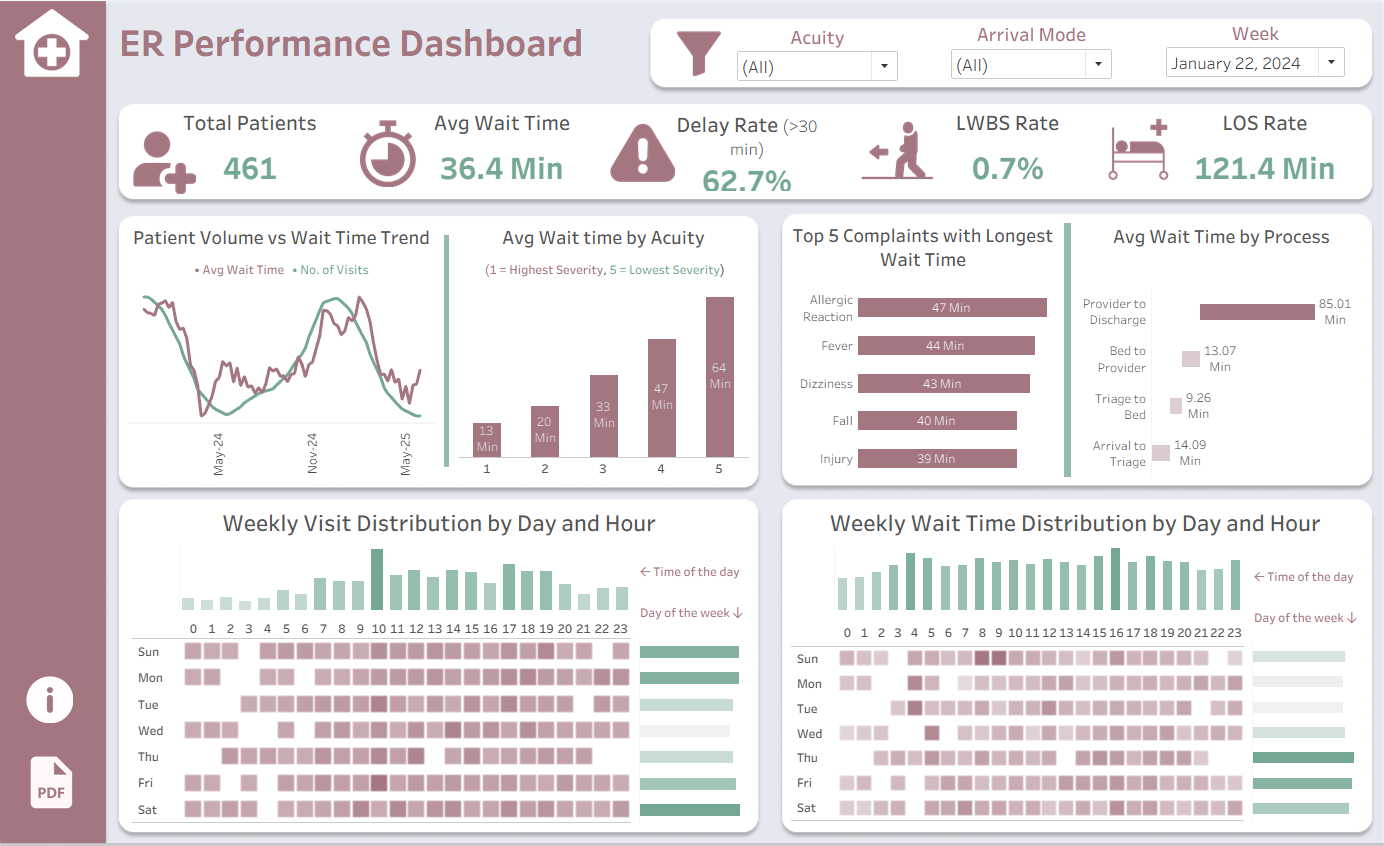

The dashboard page shown, as its layout file describes it:
{"tool":"tableau","page":{"name":"Dashboard 1","canvas":[1400,850],"ordinal":0},"visuals":[{"type":"image","param":"Image/Frame 2.png","box":[0,0,1400,850]},{"type":"image","param":"Image/Masked_pharmacy.png","box":[18,6,84,71]},{"type":"text","box":[122,10,1259,819]},{"type":"text","box":[123,13,516,54]},{"type":"filter","title":"Avg Wait Time","param":"[federated.0mgkxdm0bvt3421c7dn7l00vbysw].[md:week_start:ok]","box":[1171,19,185,59]},{"type":"filter","title":"Avg Wait Time","param":"[federated.0mgkxdm0bvt3421c7dn7l00vbysw].[none:arrival_mode:nk]","box":[956,20,167,61]},{"type":"filter","title":"Avg Wait Time","param":"[federated.0mgkxdm0bvt3421c7dn7l00vbysw].[none:acuity_cd:ok]","box":[742,23,167,58]},{"type":"image","param":"Image/Masked_filter.png","box":[684,29,45,47]},{"type":"blank","box":[134,105,32,89]},{"type":"text","box":[166,105,184,32]},{"type":"blank","box":[350,105,67,89]},{"type":"text","box":[417,105,186,32]},{"type":"blank","box":[603,105,55,89]},{"type":"text","box":[658,105,194,59]},{"type":"blank","box":[852,105,59,89]},{"type":"text","box":[911,105,209,32]},{"type":"blank","box":[1120,105,56,89]},{"type":"text","box":[1176,105,194,32]},{"type":"image","param":"Image/Masked_LWBS.png","box":[869,112,72,75]},{"type":"image","param":"Image/Masked_LOS.png","box":[1104,113,85,70]},{"type":"image","param":"Image/masked_timer.png","box":[362,117,67,72]},{"type":"image","param":"Image/Masked_Delay.png","box":[618,119,65,65]},{"type":"image","param":"Image/masked_patient.png","box":[141,130,64,63]},{"type":"worksheet","title":"Total Patients","mark":"Automatic","box":[166,137,184,57]},{"type":"worksheet","title":"Avg Wait Time","mark":"Automatic","box":[417,137,186,57]},{"type":"worksheet","title":"LWBS Rate","mark":"Automatic","box":[911,137,209,57]},{"type":"worksheet","title":"Avg LOS","mark":"Automatic","box":[1176,137,194,57]},{"type":"worksheet","title":"Delay Rate","mark":"Automatic","box":[658,164,194,30]},{"type":"text","box":[794,218,274,56]},{"type":"blank","box":[1068,218,15,262]},{"type":"text","box":[1083,218,293,33]},{"type":"text","box":[132,219,315,33]},{"type":"blank","box":[447,219,15,262]},{"type":"text","box":[462,219,299,32.5]},{"type":"blank","box":[1083,251,293,32]},{"type":"text","box":[462,251.5,299,32.5]},{"type":"text","box":[132,252,315,32]},{"type":"blank","box":[794,274,274,10]},{"type":"worksheet","title":"Process Flow","mark":"GanttBar","rows":["process_step"],"cols":["Calculation_3086091704451072015"],"box":[1083,283,293,197]},{"type":"worksheet","title":"Trend chart","mark":"Line","cols":["week_start"],"box":[132,284,315,197]},{"type":"worksheet","title":"Wait time by Acuity","mark":"Bar","rows":["patient_wait_min"],"cols":["acuity_cd"],"box":[462,284,299,197]},{"type":"worksheet","title":"Wait time by Complaints","mark":"Bar","rows":["chief_complaint_raw"],"cols":["patient_wait_min"],"box":[794,284,274,196]},{"type":"text","box":[136,502,622,38]},{"type":"text","box":[795,502,576,38]},{"type":"text","box":[644,535,118,88]},{"type":"blank","box":[136,540,47,73]},{"type":"worksheet","title":"Volume by Hour","mark":"Bar","rows":["visit_id"],"cols":["arrival_hour"],"box":[183,540,460,73]},{"type":"blank","box":[643,540,115,94]},{"type":"blank","box":[795,540,43,73]},{"type":"worksheet","title":"Wait time by Hour","mark":"Bar","rows":["patient_wait_min"],"cols":["arrival_hour"],"box":[838,540,418,73]},{"type":"blank","box":[1256,540,115,99.3]},{"type":"text","box":[1258,540,118,88]},{"type":"worksheet","title":"Volume Heat Map","mark":"Shape","rows":["arrival_day_of_week"],"cols":["arrival_hour"],"box":[136,613,507,213]},{"type":"worksheet","title":"Wait Time Heat Map","mark":"Shape","rows":["arrival_day_of_week"],"cols":["arrival_hour"],"box":[795,613,461,211]},{"type":"worksheet","title":"Volume by day","mark":"Bar","rows":["arrival_day_of_week"],"cols":["visit_id"],"box":[643,634,115,192]},{"type":"worksheet","title":"Wait Time by Day","mark":"Bar","rows":["arrival_day_of_week"],"cols":["patient_wait_min"],"box":[1256,639.3,115,184.7]},{"type":"dashboard-object","box":[34,673,47,50]},{"type":"dashboard-object","box":[28,745,62,73]}]}

Visuals, with their boxes in screenshot pixels (x1, y1, x2, y2), scaled from the page's 1400x850 canvas onto the 1384x846 screenshot:
image: rect(0, 0, 1383, 845)
image: rect(18, 6, 101, 77)
text: rect(121, 10, 1365, 825)
text: rect(122, 13, 632, 67)
"Avg Wait Time" filter: rect(1158, 19, 1341, 78)
"Avg Wait Time" filter: rect(945, 20, 1110, 81)
"Avg Wait Time" filter: rect(734, 23, 899, 81)
image: rect(676, 29, 721, 76)
blank: rect(132, 105, 164, 193)
text: rect(164, 105, 346, 136)
blank: rect(346, 105, 412, 193)
text: rect(412, 105, 596, 136)
blank: rect(596, 105, 650, 193)
text: rect(650, 105, 842, 163)
blank: rect(842, 105, 901, 193)
text: rect(901, 105, 1107, 136)
blank: rect(1107, 105, 1163, 193)
text: rect(1163, 105, 1354, 136)
image: rect(859, 111, 930, 186)
image: rect(1091, 112, 1175, 182)
image: rect(358, 116, 424, 188)
image: rect(611, 118, 675, 183)
image: rect(139, 129, 203, 192)
"Total Patients" worksheet: rect(164, 136, 346, 193)
"Avg Wait Time" worksheet: rect(412, 136, 596, 193)
"LWBS Rate" worksheet: rect(901, 136, 1107, 193)
"Avg LOS" worksheet: rect(1163, 136, 1354, 193)
"Delay Rate" worksheet: rect(650, 163, 842, 193)
text: rect(785, 217, 1056, 273)
blank: rect(1056, 217, 1071, 478)
text: rect(1071, 217, 1360, 250)
text: rect(130, 218, 442, 251)
blank: rect(442, 218, 457, 479)
text: rect(457, 218, 752, 250)
blank: rect(1071, 250, 1360, 282)
text: rect(457, 250, 752, 283)
text: rect(130, 251, 442, 283)
blank: rect(785, 273, 1056, 283)
"Process Flow" worksheet (GanttBar marks): rect(1071, 282, 1360, 478)
"Trend chart" worksheet (Line marks): rect(130, 283, 442, 479)
"Wait time by Acuity" worksheet (Bar marks): rect(457, 283, 752, 479)
"Wait time by Complaints" worksheet (Bar marks): rect(785, 283, 1056, 478)
text: rect(134, 500, 749, 537)
text: rect(786, 500, 1355, 537)
text: rect(637, 532, 753, 620)
blank: rect(134, 537, 181, 610)
"Volume by Hour" worksheet (Bar marks): rect(181, 537, 636, 610)
blank: rect(636, 537, 749, 631)
blank: rect(786, 537, 828, 610)
"Wait time by Hour" worksheet (Bar marks): rect(828, 537, 1242, 610)
blank: rect(1242, 537, 1355, 636)
text: rect(1244, 537, 1360, 625)
"Volume Heat Map" worksheet (Shape marks): rect(134, 610, 636, 822)
"Wait Time Heat Map" worksheet (Shape marks): rect(786, 610, 1242, 820)
"Volume by day" worksheet (Bar marks): rect(636, 631, 749, 822)
"Wait Time by Day" worksheet (Bar marks): rect(1242, 636, 1355, 820)
dashboard-object: rect(34, 670, 80, 720)
dashboard-object: rect(28, 741, 89, 814)
